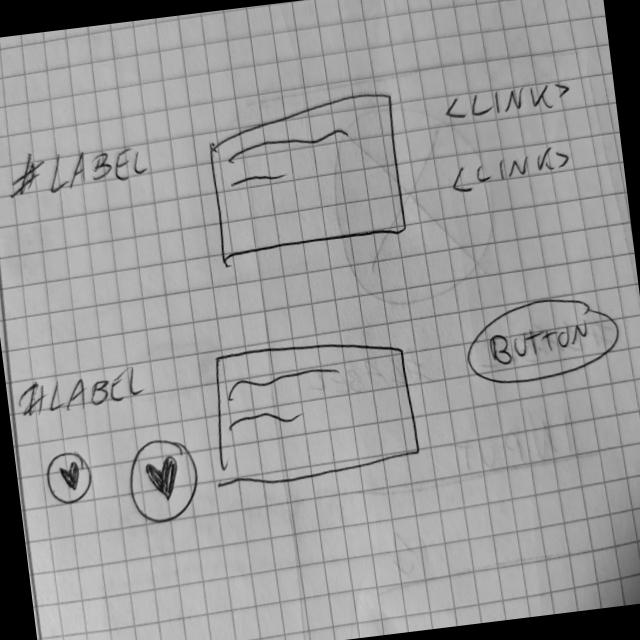button: (456, 282, 626, 398)
icon-button: (123, 432, 205, 530), (39, 445, 101, 512)
label: (3, 138, 152, 205), (17, 364, 149, 422)
link: (445, 138, 578, 200), (439, 72, 576, 128)
textarea: (195, 87, 414, 269), (204, 324, 427, 495)
